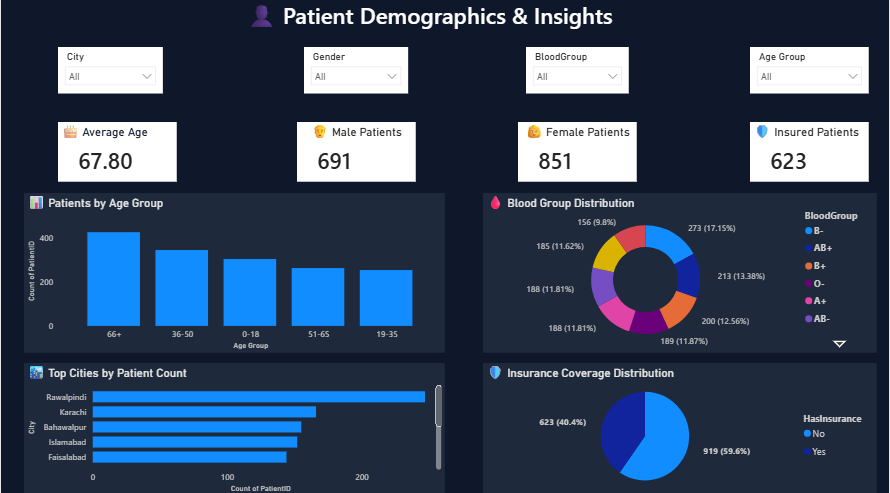

Layout of this report page (visuals, bound fields, positions):
{"tool":"powerbi","page":{"name":"👤 Patient Demographics & Insights","canvas":[1280,720],"ordinal":1},"visuals":[{"type":"shape","box":[0,0,1280,107.5],"z":0},{"type":"textbox","box":[52.1,0,1130.5,53.8],"z":1000},{"type":"cardVisual","title":"🎂 Average Age","fields":{"Data":["Avg(Fact Healthcare.Age)"]},"box":[82.3,181.4,171.3,85.7],"z":2000},{"type":"cardVisual","title":"🛡️ Insured Patients","fields":{"Data":["Dim Disease.Insured Patients"]},"box":[1078.4,181.4,171.3,85.7],"z":3000},{"type":"cardVisual","title":"👩 Female Patients","fields":{"Data":["Dim Disease.Female Patients"]},"box":[744.1,181.4,171.3,85.7],"z":4000},{"type":"cardVisual","title":"👨 Male Patients","fields":{"Data":["Dim Disease.Male Patients"]},"box":[426.7,181.4,171.3,85.7],"z":5000},{"type":"clusteredBarChart","title":"🏙️ Top Cities by Patient Count","fields":{"Category":["Dim Patient.City"],"Y":["CountNonNull(Dim Patient.PatientID)"]},"box":[33.6,532.5,586.2,188.1],"z":6000},{"type":"clusteredColumnChart","title":"📊 Patients by Age Group","fields":{"Category":["Fact Healthcare.Age Group"],"Y":["CountNonNull(Fact Healthcare.PatientID)"]},"box":[33.6,283.9,586.2,230.1],"z":7000},{"type":"donutChart","title":"🩸 Blood Group Distribution","fields":{"Category":["Fact Healthcare.BloodGroup"],"Y":["CountNonNull(Fact Healthcare.BloodGroup)"]},"box":[744.1,283.9,517.4,201.6],"z":8000},{"type":"pieChart","title":"🛡️ Insurance Coverage Distribution","fields":{"Category":["Dim Patient.HasInsurance"],"Y":["CountNonNull(Dim Patient.HasInsurance)"]},"box":[744.1,514,535.9,206.6],"z":9000},{"type":"slicer","fields":{"Values":["Dim Patient.City"]},"box":[82.3,73.9,151.2,67.2],"z":10000},{"type":"slicer","fields":{"Values":["Dim Patient.Gender"]},"box":[436.7,73.9,149.5,67.2],"z":11000},{"type":"slicer","fields":{"Values":["Fact Healthcare.BloodGroup"]},"box":[755.9,73.9,147.8,67.2],"z":12000},{"type":"slicer","fields":{"Values":["Fact Healthcare.Age Group"]},"box":[1078.4,73.9,171.3,67.2],"z":13000}]}

Visuals, with their boxes in screenshot pixels (x1, y1, x2, y2), scaled from the page's 1280x720 canvas onto the 890x493 screenshot:
shape: {"left": 0, "top": 0, "right": 889, "bottom": 74}
textbox: {"left": 36, "top": 0, "right": 822, "bottom": 37}
"🎂 Average Age" cardVisual: {"left": 57, "top": 124, "right": 176, "bottom": 183}
"🛡️ Insured Patients" cardVisual: {"left": 750, "top": 124, "right": 869, "bottom": 183}
"👩 Female Patients" cardVisual: {"left": 517, "top": 124, "right": 636, "bottom": 183}
"👨 Male Patients" cardVisual: {"left": 297, "top": 124, "right": 416, "bottom": 183}
"🏙️ Top Cities by Patient Count" clusteredBarChart: {"left": 23, "top": 365, "right": 431, "bottom": 492}
"📊 Patients by Age Group" clusteredColumnChart: {"left": 23, "top": 194, "right": 431, "bottom": 352}
"🩸 Blood Group Distribution" donutChart: {"left": 517, "top": 194, "right": 877, "bottom": 332}
"🛡️ Insurance Coverage Distribution" pieChart: {"left": 517, "top": 352, "right": 889, "bottom": 492}
slicer - Dim Patient.City: {"left": 57, "top": 51, "right": 162, "bottom": 97}
slicer - Dim Patient.Gender: {"left": 304, "top": 51, "right": 408, "bottom": 97}
slicer - Fact Healthcare.BloodGroup: {"left": 526, "top": 51, "right": 628, "bottom": 97}
slicer - Fact Healthcare.Age Group: {"left": 750, "top": 51, "right": 869, "bottom": 97}
